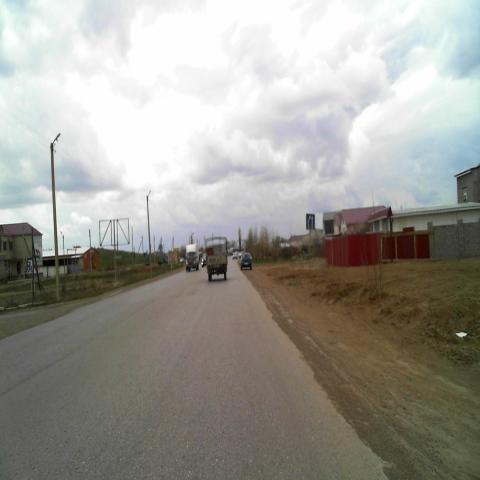5_15_5: (306, 212, 316, 229)
